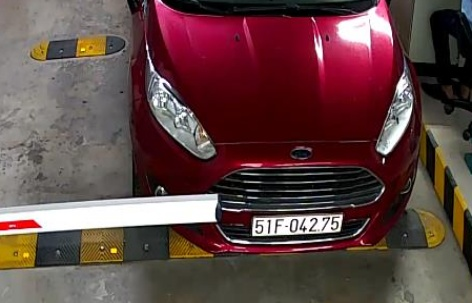plate: (249, 206, 340, 237)
